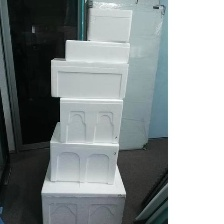foam_box: (37, 159, 128, 224), (45, 117, 122, 186), (46, 54, 131, 101), (54, 95, 126, 146), (61, 37, 133, 66), (83, 5, 134, 45)
